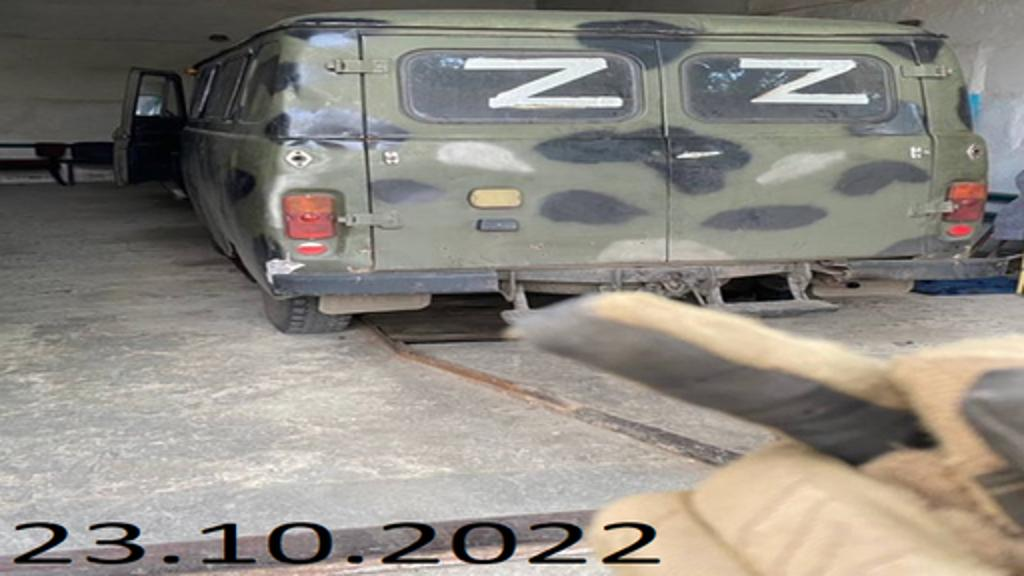CAR: (106, 4, 1010, 334)
